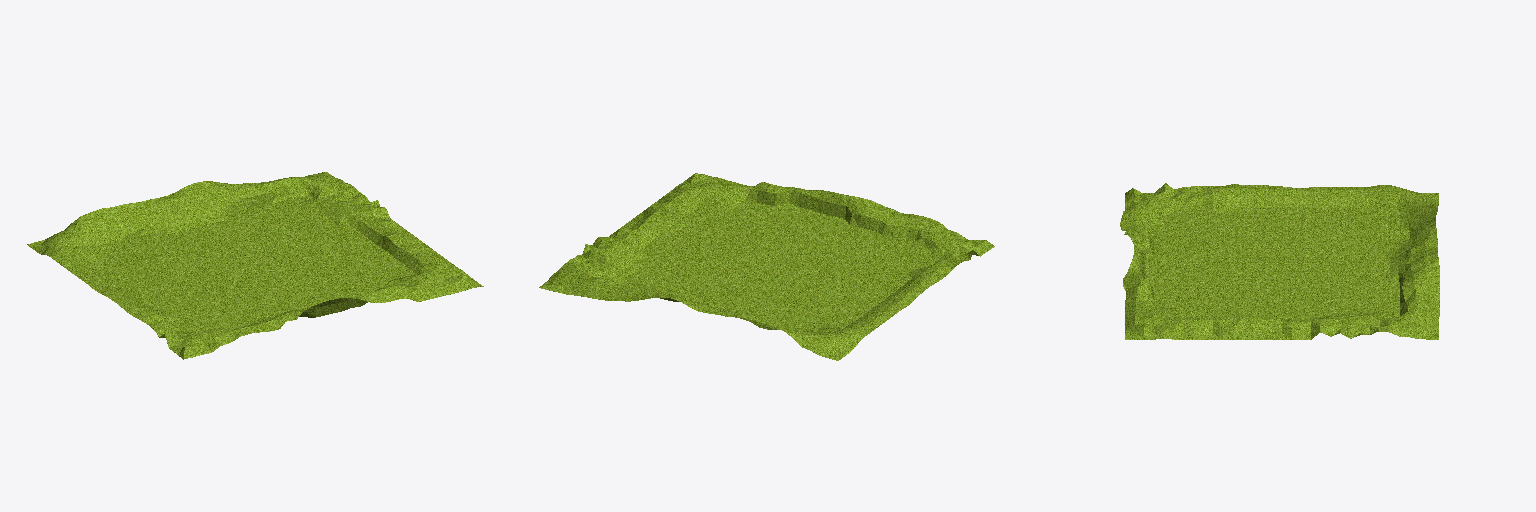
3 renders of one model, left to right at view 1: azimuth 30°, elevation 25°; view 2: azimuth 150°, elevation 25°; view 3: azimuth 270°, elevation 25°, orthographic.
Visible parts, largest first — view 1: Plane; view 2: Plane; view 3: Plane.
Part boxes in pixels (x1,y1,x2,y2): Plane: (27,172,483,359); Plane: (539,173,994,360); Plane: (1120,183,1439,339).
Size of the model in its own units: 26.04 by 1.78 by 23.7.
Materials: 1 (1 with a texture image).